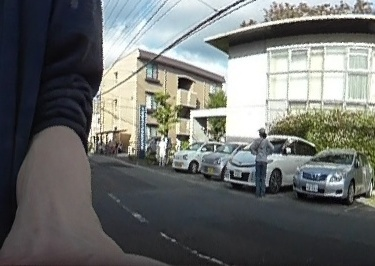person: (252, 128, 270, 193), (159, 133, 167, 160)
